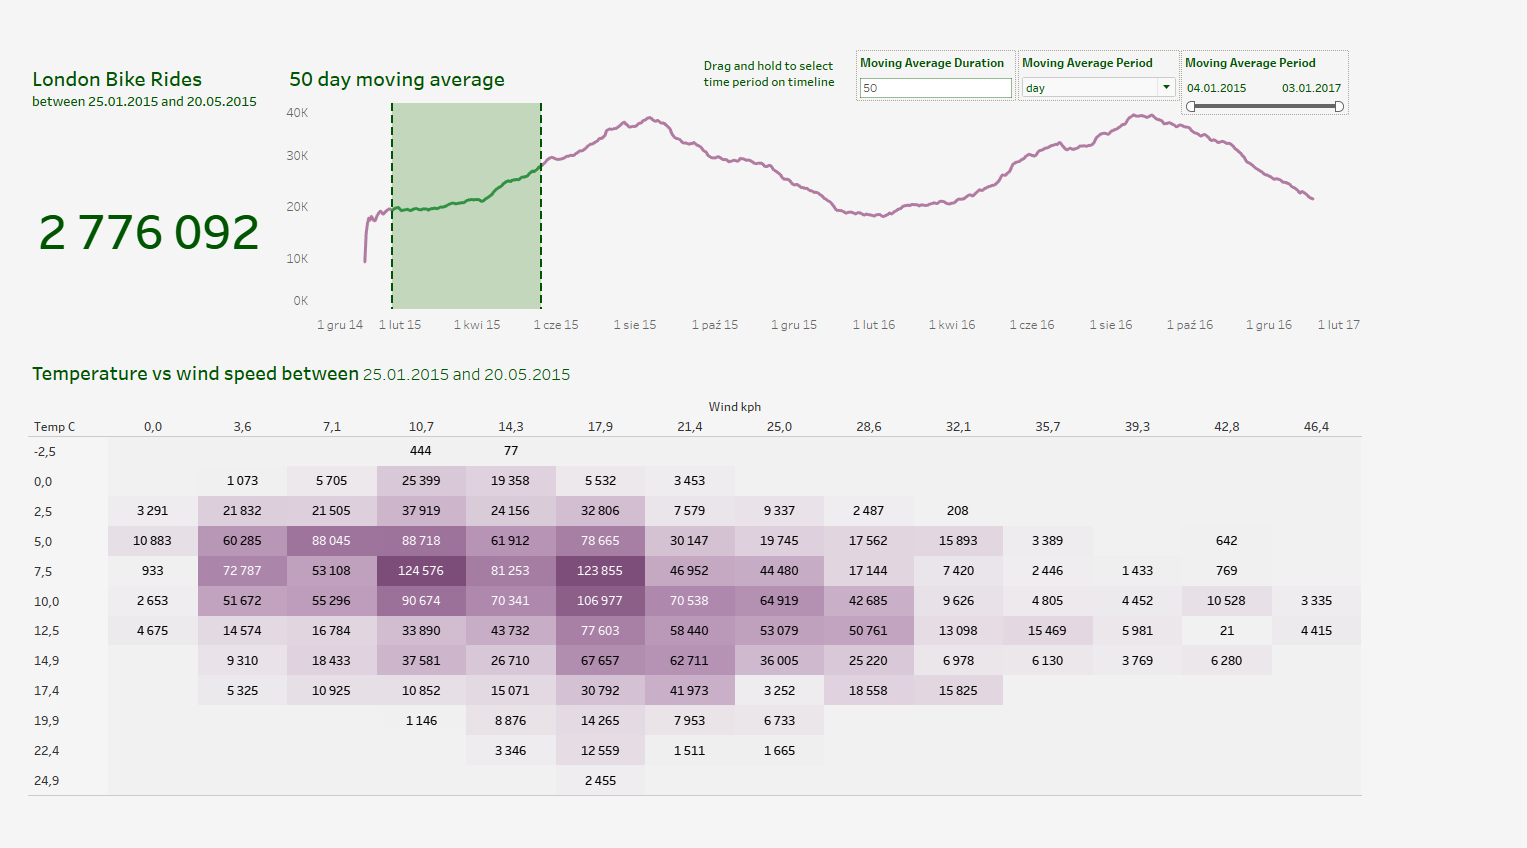

This screenshot's page, from the dashboard's own definition file:
{"tool":"tableau","page":{"name":"Dashboard 1","canvas":[1366,768],"ordinal":0},"visuals":[{"type":"parameter","param":"[Parameters].[Parameter 2]","box":[844,6,160,51]},{"type":"parameter","param":"[Parameters].[Parameter 1]","box":[1006,6,162,51]},{"type":"filter","title":"MovingAverage","param":"[federated.0ipssl21sxhkh6101t1m413xxipq].[none:Calculation_730146139833159680:qk","box":[1169,6,168,65]},{"type":"worksheet","title":"TotalRides","mark":"Automatic","box":[8,8,257,295]},{"type":"worksheet","title":"MovingAverage","mark":"Automatic","rows":["Calculation1"],"cols":["Calculation_730146139833159680"],"box":[265,8,1093,295]},{"type":"text","box":[689,13,137,34]},{"type":"worksheet","title":"Heatmap","mark":"Square","rows":["temp_real_C (bin)"],"cols":["wind_speed_kph (bin)"],"box":[8,303,1350,457]}]}

Visuals, with their boxes in screenshot pixels (x1, y1, x2, y2), scaled from the page's 1366x768 canvas onto the 1527x848 screenshot:
parameter: select_region(943, 7, 1122, 63)
parameter: select_region(1125, 7, 1306, 63)
"MovingAverage" filter: select_region(1307, 7, 1495, 78)
"TotalRides" worksheet: select_region(9, 9, 296, 335)
"MovingAverage" worksheet: select_region(296, 9, 1518, 335)
text: select_region(770, 14, 923, 52)
"Heatmap" worksheet (Square marks): select_region(9, 335, 1518, 839)
